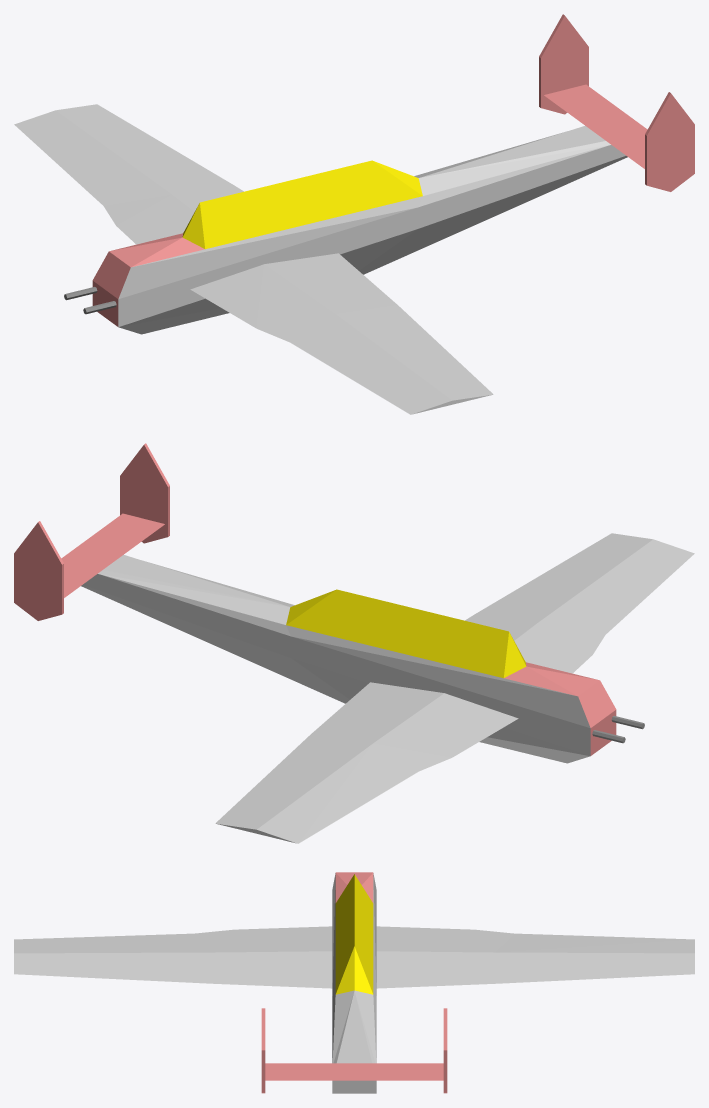
File: Stollen Messerschmitt 110.fbx
3 renders of one model, top to bottom at view 1: azimuth 30°, elevation 25°; view 2: azimuth 150°, elevation 25°; view 3: azimuth 270°, elevation 25°, orthographic. The views are drawn at different scales.
Visible parts, largest first — view 1: Stolen Messerschmitt 110; view 2: Stolen Messerschmitt 110; view 3: Stolen Messerschmitt 110.
Boxes of the visible parts, x1,y1,x2,y2 form: Stolen Messerschmitt 110: (14,14,694,414); Stolen Messerschmitt 110: (14,443,694,843); Stolen Messerschmitt 110: (14,872,694,1093).
Bounding box in the file's own units: 1143 × 318 × 1388.
